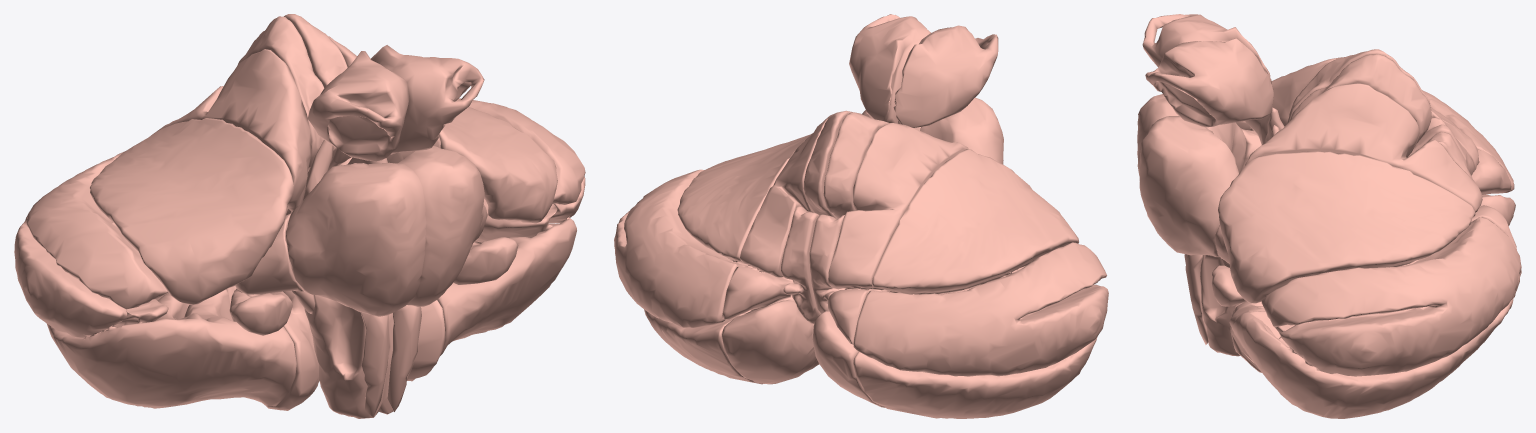
The model's file is brainstem-cerebellum.glb.
The picture shows the model from 3 angles, left to right: view 1: azimuth 30°, elevation 25°; view 2: azimuth 150°, elevation 25°; view 3: azimuth 270°, elevation 25°; orthographic projection. The views are drawn at different scales.
Visible parts, largest first — view 1: Allen_lateral_hemisphere_of_cerebellum_L, Allen_lateral_hemisphere_of_cerebellum_R, Allen_basilar_part_of_pons_L, Allen_paravermis_of_cerebellum_L, Allen_basilar_part_of_pons_R, Allen_midbrain_tegmentum_L, Allen_midbrain_tegmentum_R, Allen_tegmentum_of_medulla_oblongata_L, Allen_cerebellar_vermis_L, Allen_paravermis_of_cerebellum_R, Allen_pyramidal_part_of_medulla_oblongata_R, Allen_middle_cerebellar_peduncle_L (+4 smaller); view 2: Allen_lateral_hemisphere_of_cerebellum_L, Allen_lateral_hemisphere_of_cerebellum_R, Allen_paravermis_of_cerebellum_L, Allen_paravermis_of_cerebellum_R, Allen_midbrain_tegmentum_L, Allen_cerebellar_vermis_L, Allen_midbrain_tegmentum_R, Allen_cerebellar_vermis_R, Allen_basilar_part_of_pons_L; view 3: Allen_lateral_hemisphere_of_cerebellum_R, Allen_paravermis_of_cerebellum_R, Allen_basilar_part_of_pons_R, Allen_midbrain_tegmentum_R, Allen_paravermis_of_cerebellum_L, Allen_cerebellar_vermis_R, Allen_midbrain_tegmentum_L, Allen_tegmentum_of_medulla_oblongata_R, Allen_cerebellar_vermis_L, Allen_basilar_part_of_pons_L, Allen_lateral_hemisphere_of_cerebellum_L, Allen_pyramidal_part_of_medulla_oblongata_R (+1 smaller).
Part boxes in pixels (bbox=[...]): Allen_lateral_hemisphere_of_cerebellum_L: bbox=[14, 118, 296, 408]; Allen_lateral_hemisphere_of_cerebellum_R: bbox=[437, 98, 585, 355]; Allen_basilar_part_of_pons_L: bbox=[285, 162, 426, 316]; Allen_paravermis_of_cerebellum_L: bbox=[156, 49, 319, 410]; Allen_basilar_part_of_pons_R: bbox=[398, 146, 484, 306]; Allen_midbrain_tegmentum_L: bbox=[307, 51, 409, 161]; Allen_midbrain_tegmentum_R: bbox=[371, 45, 484, 154]; Allen_tegmentum_of_medulla_oblongata_L: bbox=[304, 295, 388, 418]; Allen_cerebellar_vermis_L: bbox=[238, 16, 336, 172]; Allen_paravermis_of_cerebellum_R: bbox=[328, 36, 445, 381]; Allen_pyramidal_part_of_medulla_oblongata_R: bbox=[387, 305, 421, 411]; Allen_middle_cerebellar_peduncle_L: bbox=[235, 213, 303, 294]; Allen_lateral_hemisphere_of_cerebellum_L: bbox=[853, 149, 1108, 418]; Allen_lateral_hemisphere_of_cerebellum_R: bbox=[614, 133, 812, 384]; Allen_paravermis_of_cerebellum_L: bbox=[812, 123, 968, 407]; Allen_paravermis_of_cerebellum_R: bbox=[721, 112, 837, 384]; Allen_midbrain_tegmentum_L: bbox=[893, 25, 998, 127]; Allen_cerebellar_vermis_L: bbox=[809, 112, 888, 314]; Allen_midbrain_tegmentum_R: bbox=[849, 14, 930, 123]; Allen_cerebellar_vermis_R: bbox=[781, 110, 852, 323]; Allen_basilar_part_of_pons_L: bbox=[920, 97, 1003, 164]; Allen_lateral_hemisphere_of_cerebellum_R: bbox=[1211, 151, 1521, 418]; Allen_paravermis_of_cerebellum_R: bbox=[1230, 83, 1521, 372]; Allen_basilar_part_of_pons_R: bbox=[1139, 116, 1238, 256]; Allen_midbrain_tegmentum_R: bbox=[1145, 38, 1273, 127]; Allen_paravermis_of_cerebellum_L: bbox=[1245, 57, 1515, 225]; Allen_cerebellar_vermis_R: bbox=[1290, 54, 1472, 178]; Allen_midbrain_tegmentum_L: bbox=[1142, 14, 1273, 89]; Allen_tegmentum_of_medulla_oblongata_R: bbox=[1200, 255, 1240, 356]; Allen_cerebellar_vermis_L: bbox=[1287, 49, 1474, 175]; Allen_basilar_part_of_pons_L: bbox=[1137, 94, 1246, 175]; Allen_lateral_hemisphere_of_cerebellum_L: bbox=[1236, 90, 1514, 196]; Allen_pyramidal_part_of_medulla_oblongata_R: bbox=[1185, 254, 1208, 344].
Size of the model in its own units: 0.1079 by 0.0684 by 0.0736.
